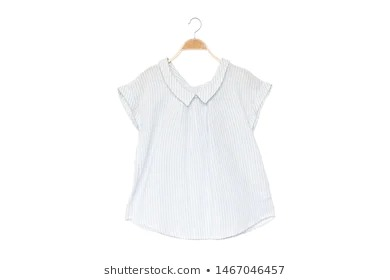C_short blouse: (120, 58, 285, 239)
